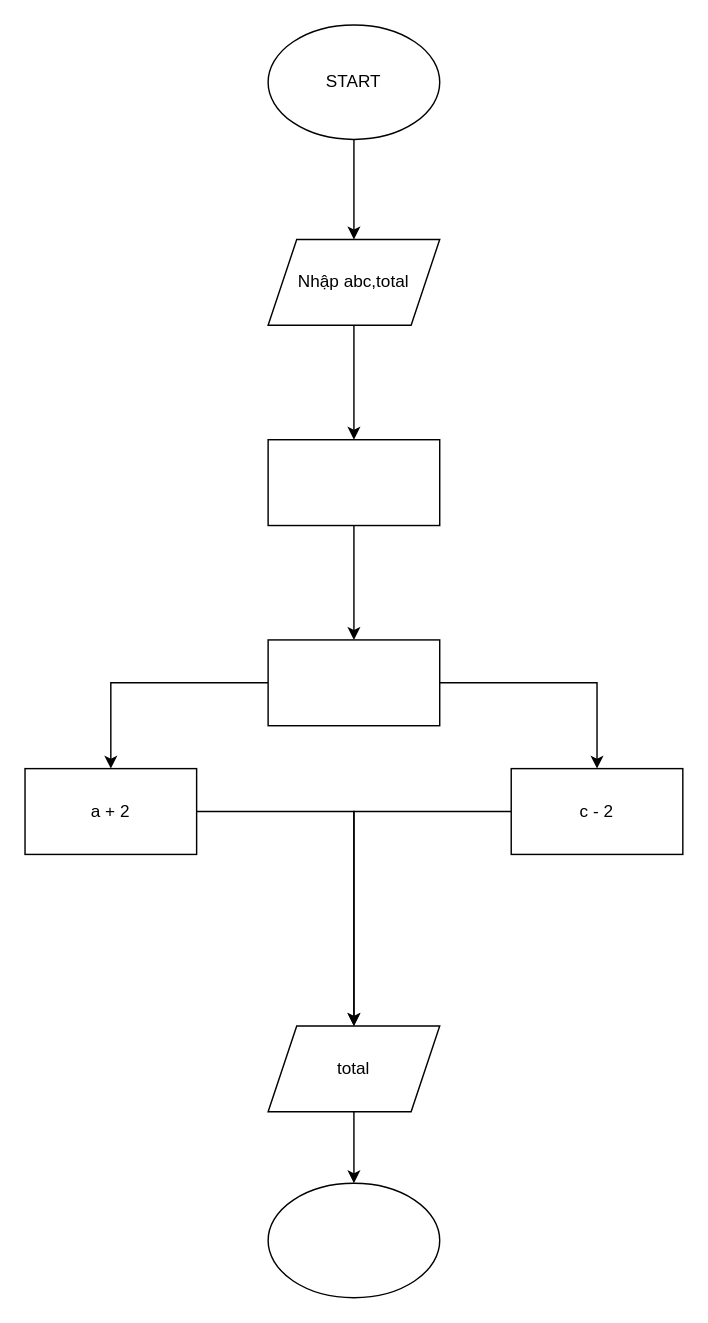
Some shapes in this 708 by 1323 pixel diagram are drawn without their labels. The centre of each missing label's shape, as x and y in pixels:
a = 5 b = 6 c = 7: [353,682]
END: [353,1240]
total = 567: [353,482]
